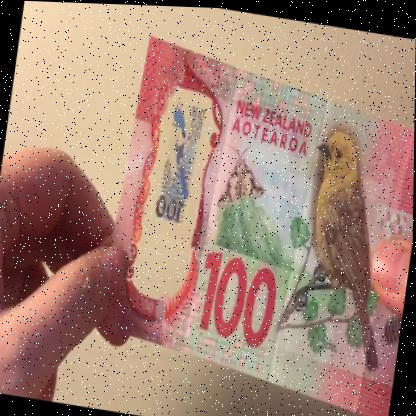100B: (141, 94, 210, 277)
